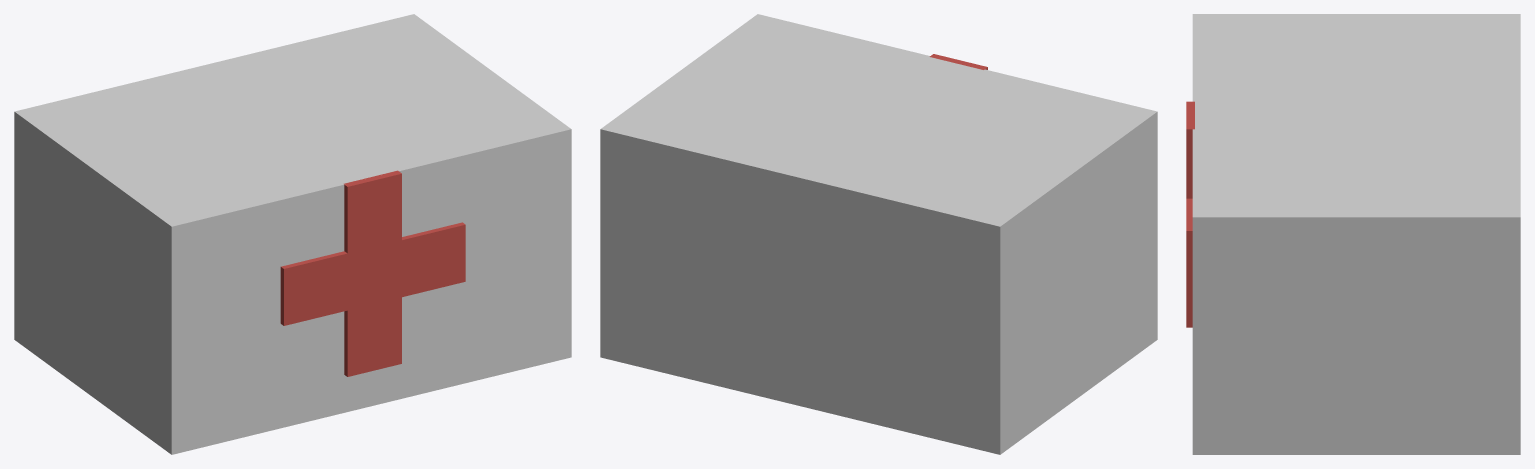
File: Esya_Ilac.glb
3 views of the same model, side by side, from view 1: azimuth 30°, elevation 25°; view 2: azimuth 150°, elevation 25°; view 3: azimuth 270°, elevation 25° (orthographic). The views are drawn at different scales.
Visible parts, largest first — view 1: Esya_Ilac; view 2: Esya_Ilac; view 3: Esya_Ilac.
Part boxes in pixels (bbox=[...]): Esya_Ilac: bbox=[14, 14, 571, 454]; Esya_Ilac: bbox=[600, 14, 1157, 454]; Esya_Ilac: bbox=[1186, 14, 1520, 454].
Bounding box in the file's own units: 0.22 × 0.12 × 0.153.
